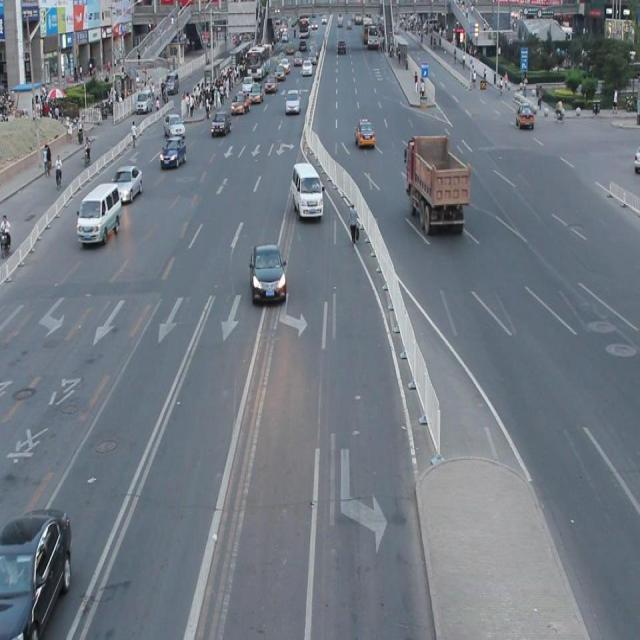bus: (405, 134, 468, 235)
car: (0, 505, 72, 640), (249, 242, 286, 306), (111, 163, 142, 203), (159, 136, 187, 169)
truck: (77, 182, 122, 243), (291, 160, 323, 218)
